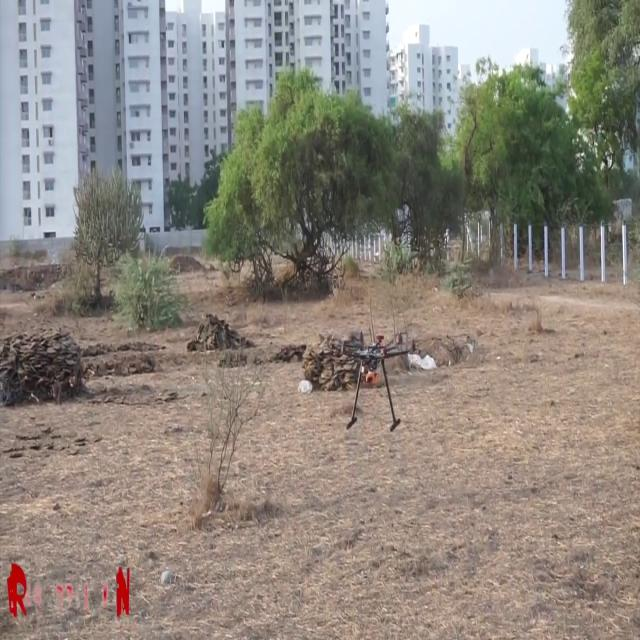drone: (307, 315, 450, 440)
